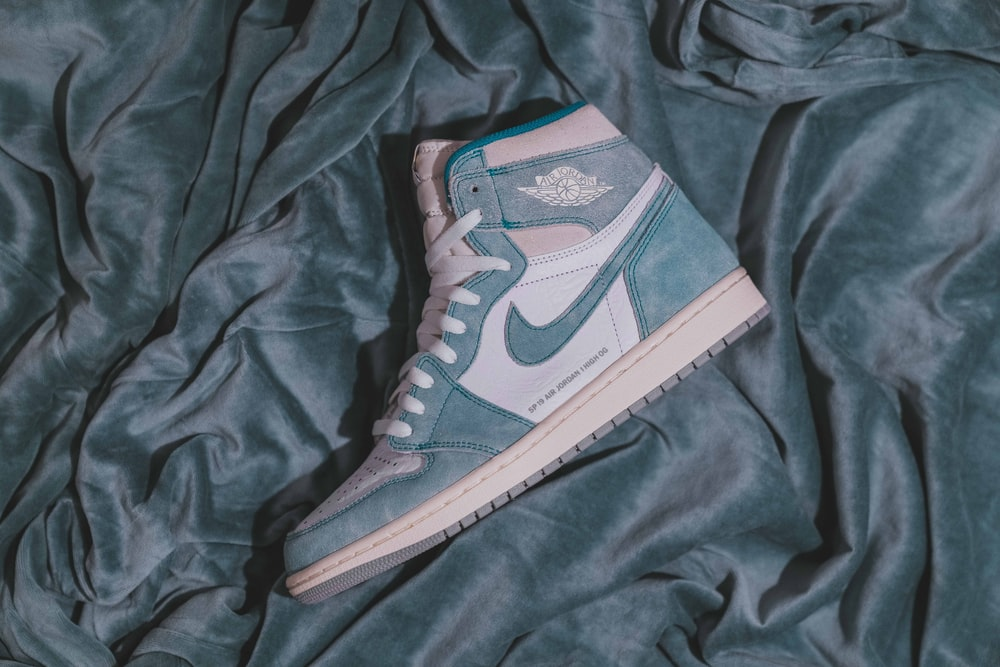Jordan 1: (282, 99, 774, 607)
